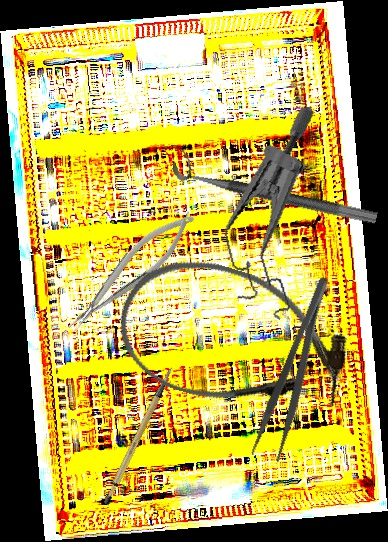Cannula: (103, 241, 364, 435)
Dressing Forceps: (247, 274, 348, 465)
Fixation Ring: (170, 147, 382, 226)
Needle Holder: (56, 203, 205, 339)
Scalpel Handle: (86, 366, 194, 507)
Speculum: (194, 105, 361, 329)
